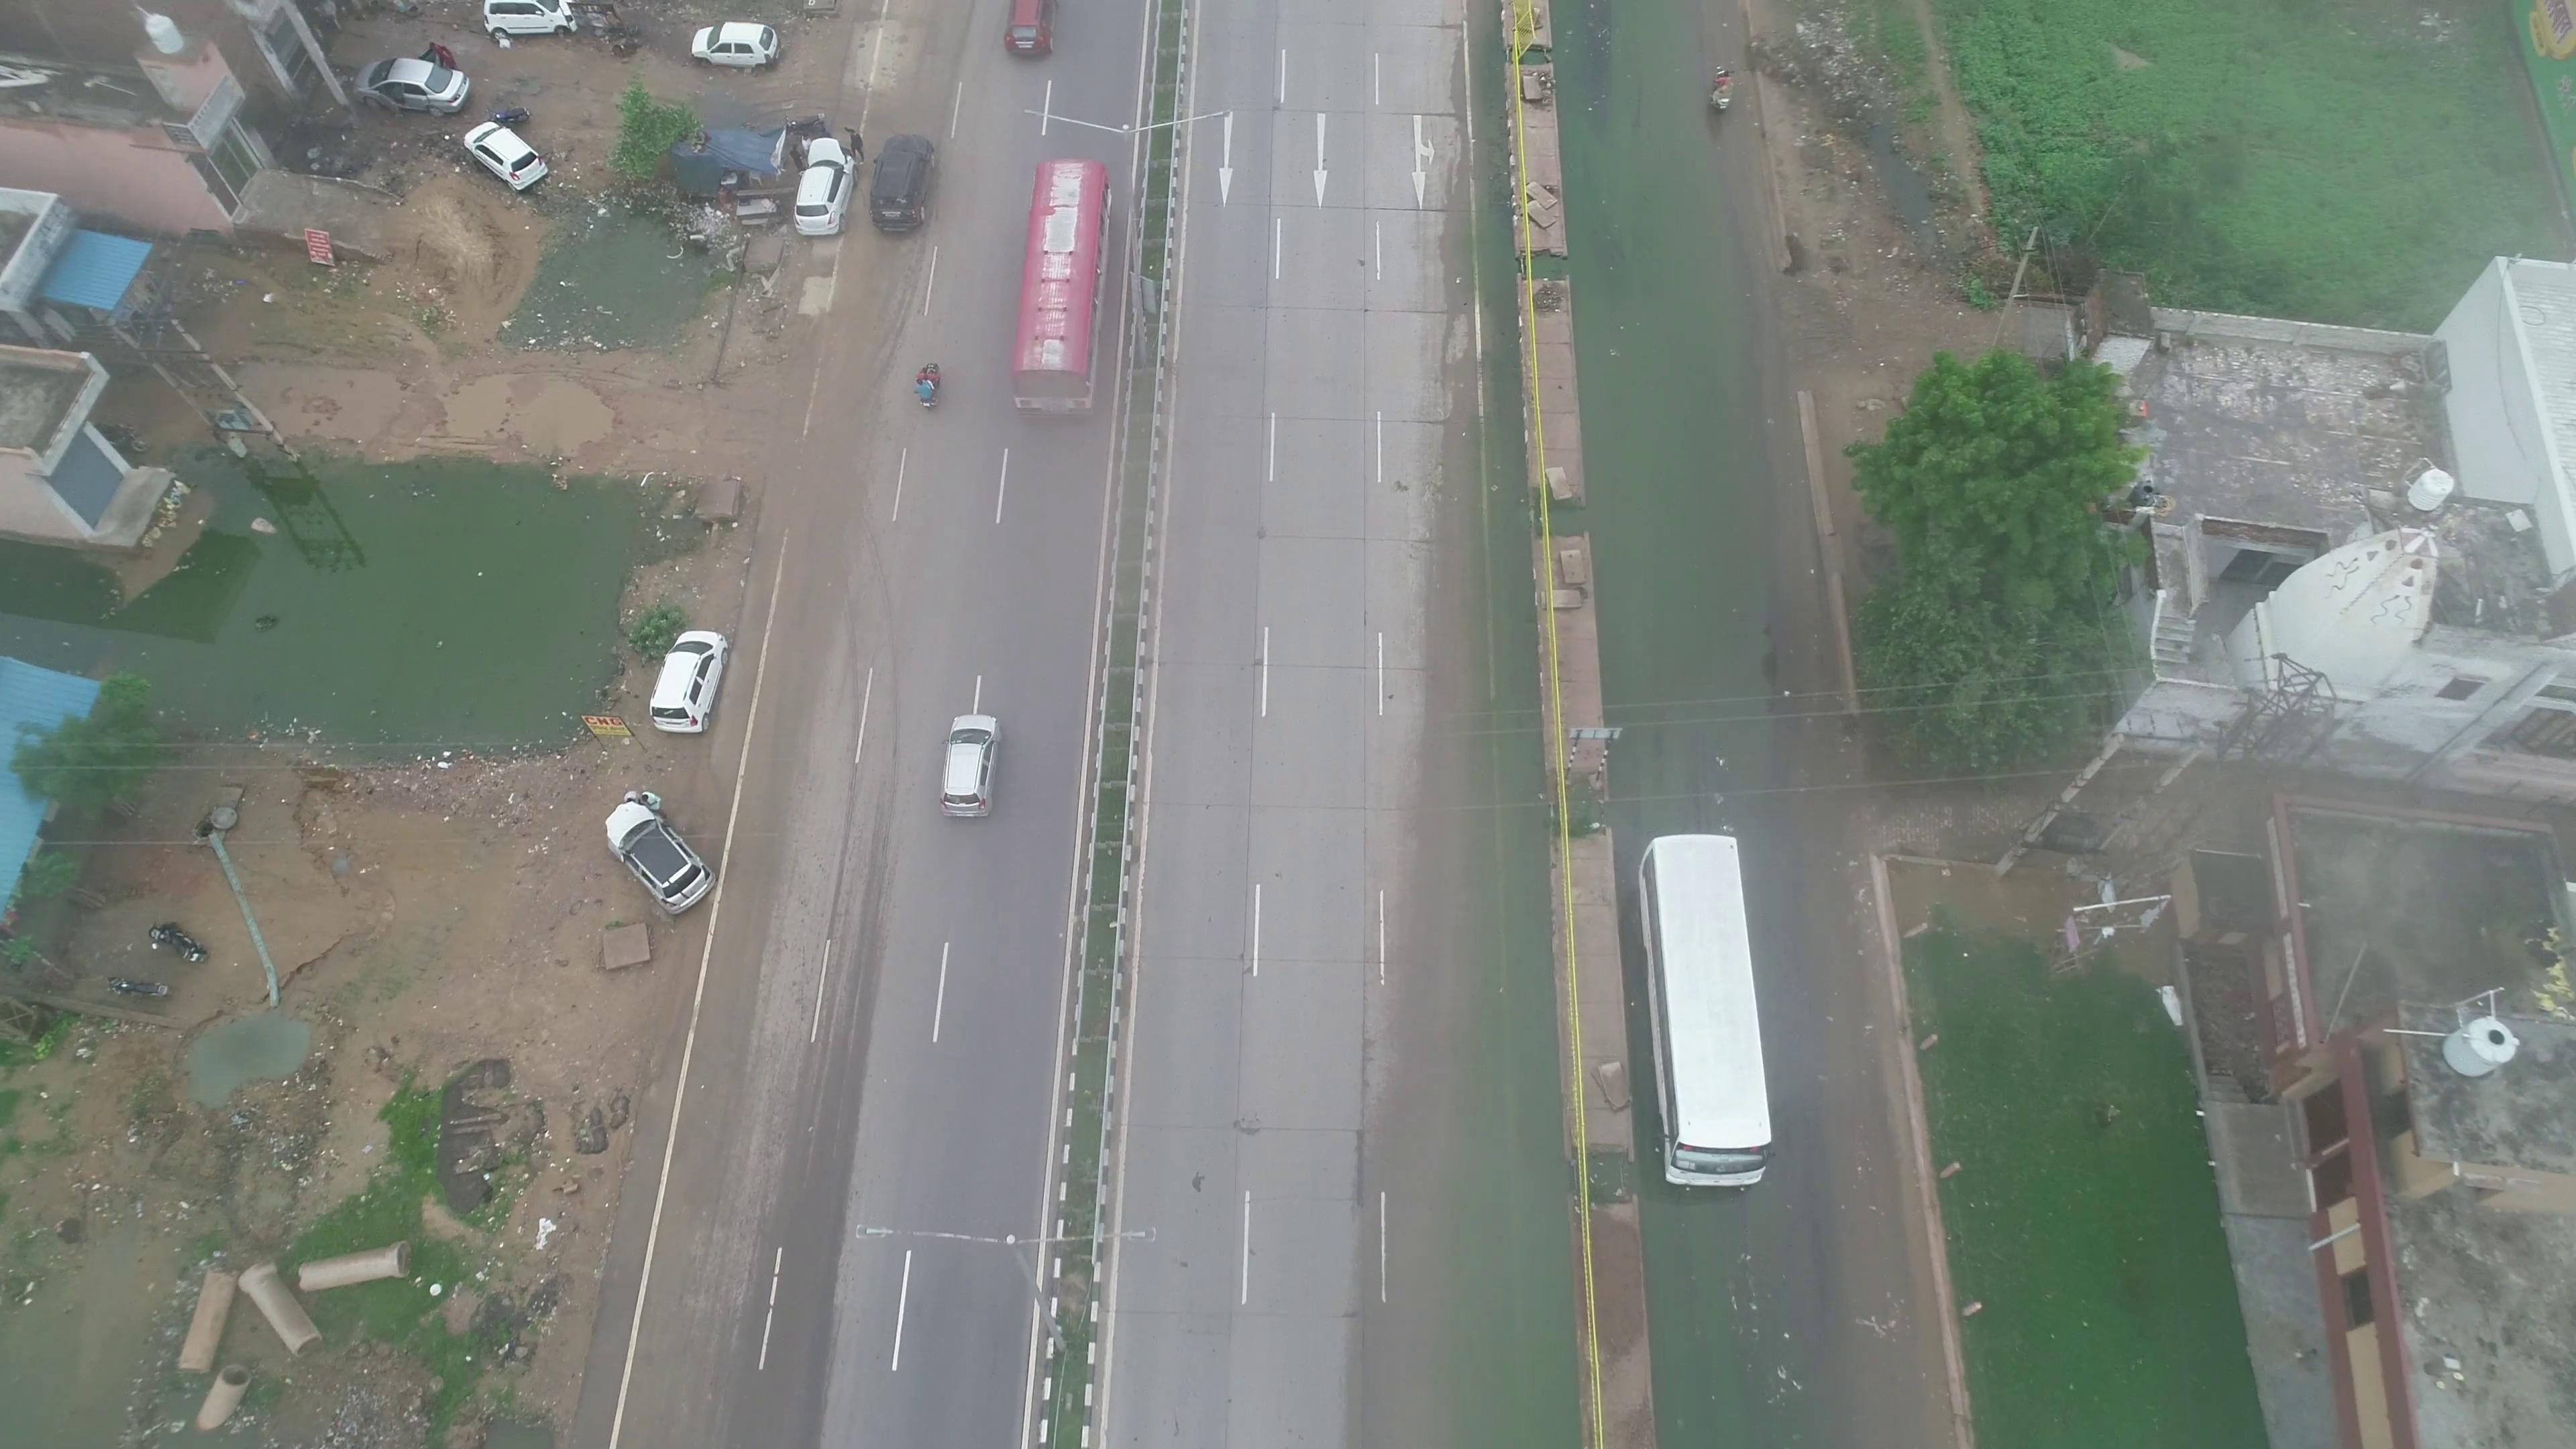Waterlogging: (1578, 96, 1764, 782), (1403, 750, 1575, 1440)
